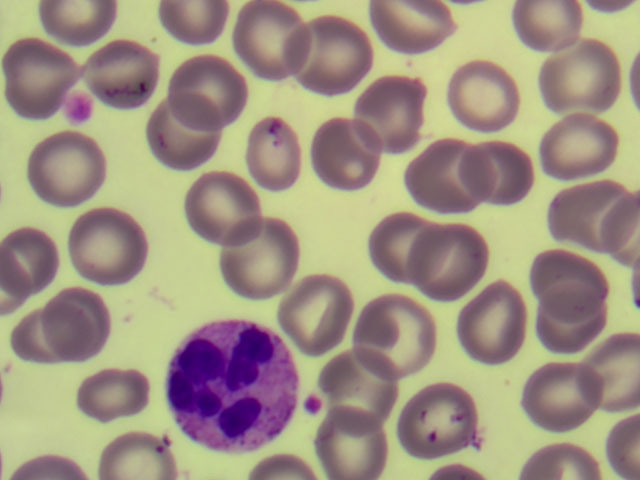Platelets: (65, 94, 93, 121), (304, 394, 325, 416)
RBC: (409, 220, 494, 308), (217, 214, 297, 306), (540, 33, 622, 121), (285, 13, 373, 94), (63, 209, 151, 287), (547, 181, 640, 254), (357, 294, 435, 380), (348, 76, 429, 157), (184, 171, 264, 252), (398, 380, 479, 459), (521, 359, 605, 435), (456, 280, 530, 366), (364, 205, 438, 291), (326, 347, 397, 434), (233, 5, 316, 79), (407, 141, 491, 214), (540, 108, 619, 185), (171, 51, 246, 132), (28, 132, 107, 208), (311, 111, 385, 191), (150, 93, 223, 172), (281, 275, 351, 357), (447, 56, 522, 131), (532, 242, 604, 320), (458, 139, 539, 208), (2, 35, 64, 125), (243, 113, 305, 196), (361, 1, 456, 53), (43, 293, 112, 362), (89, 40, 159, 107), (583, 336, 640, 412), (322, 406, 379, 480), (507, 1, 586, 48), (1, 229, 59, 292), (81, 370, 151, 420), (40, 1, 122, 43), (10, 308, 67, 366), (153, 1, 233, 42), (103, 437, 176, 480), (520, 443, 600, 480), (602, 194, 640, 270), (1, 248, 30, 319), (607, 416, 640, 478), (18, 452, 91, 480), (244, 458, 308, 480), (427, 463, 485, 480)
WBC: (165, 317, 298, 451)
